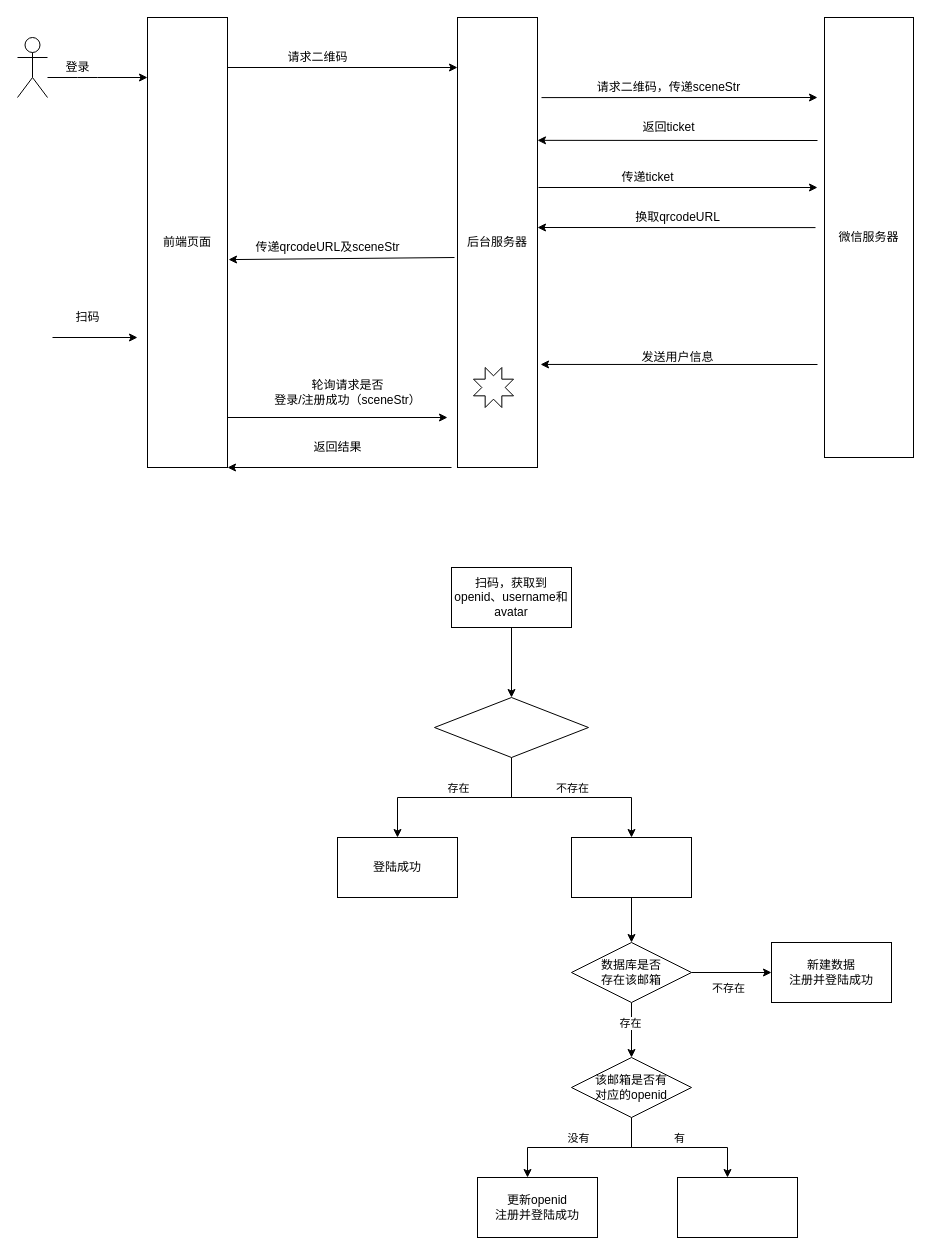
Some shapes in this 931 by 1255 pixel diagram are drawn without their labels. Each missing label, with the centre of its shape:
"Actor" belongs at pixel 32 67.
"提示邮箱重复 注册失败 要求用户更换油箱" belongs at pixel 737 1207.
"数据库是否 存在该openid" belongs at pixel 511 727.
"进入注册填写邮箱、密码界面，填写完成后发送请求" belongs at pixel 631 867.
